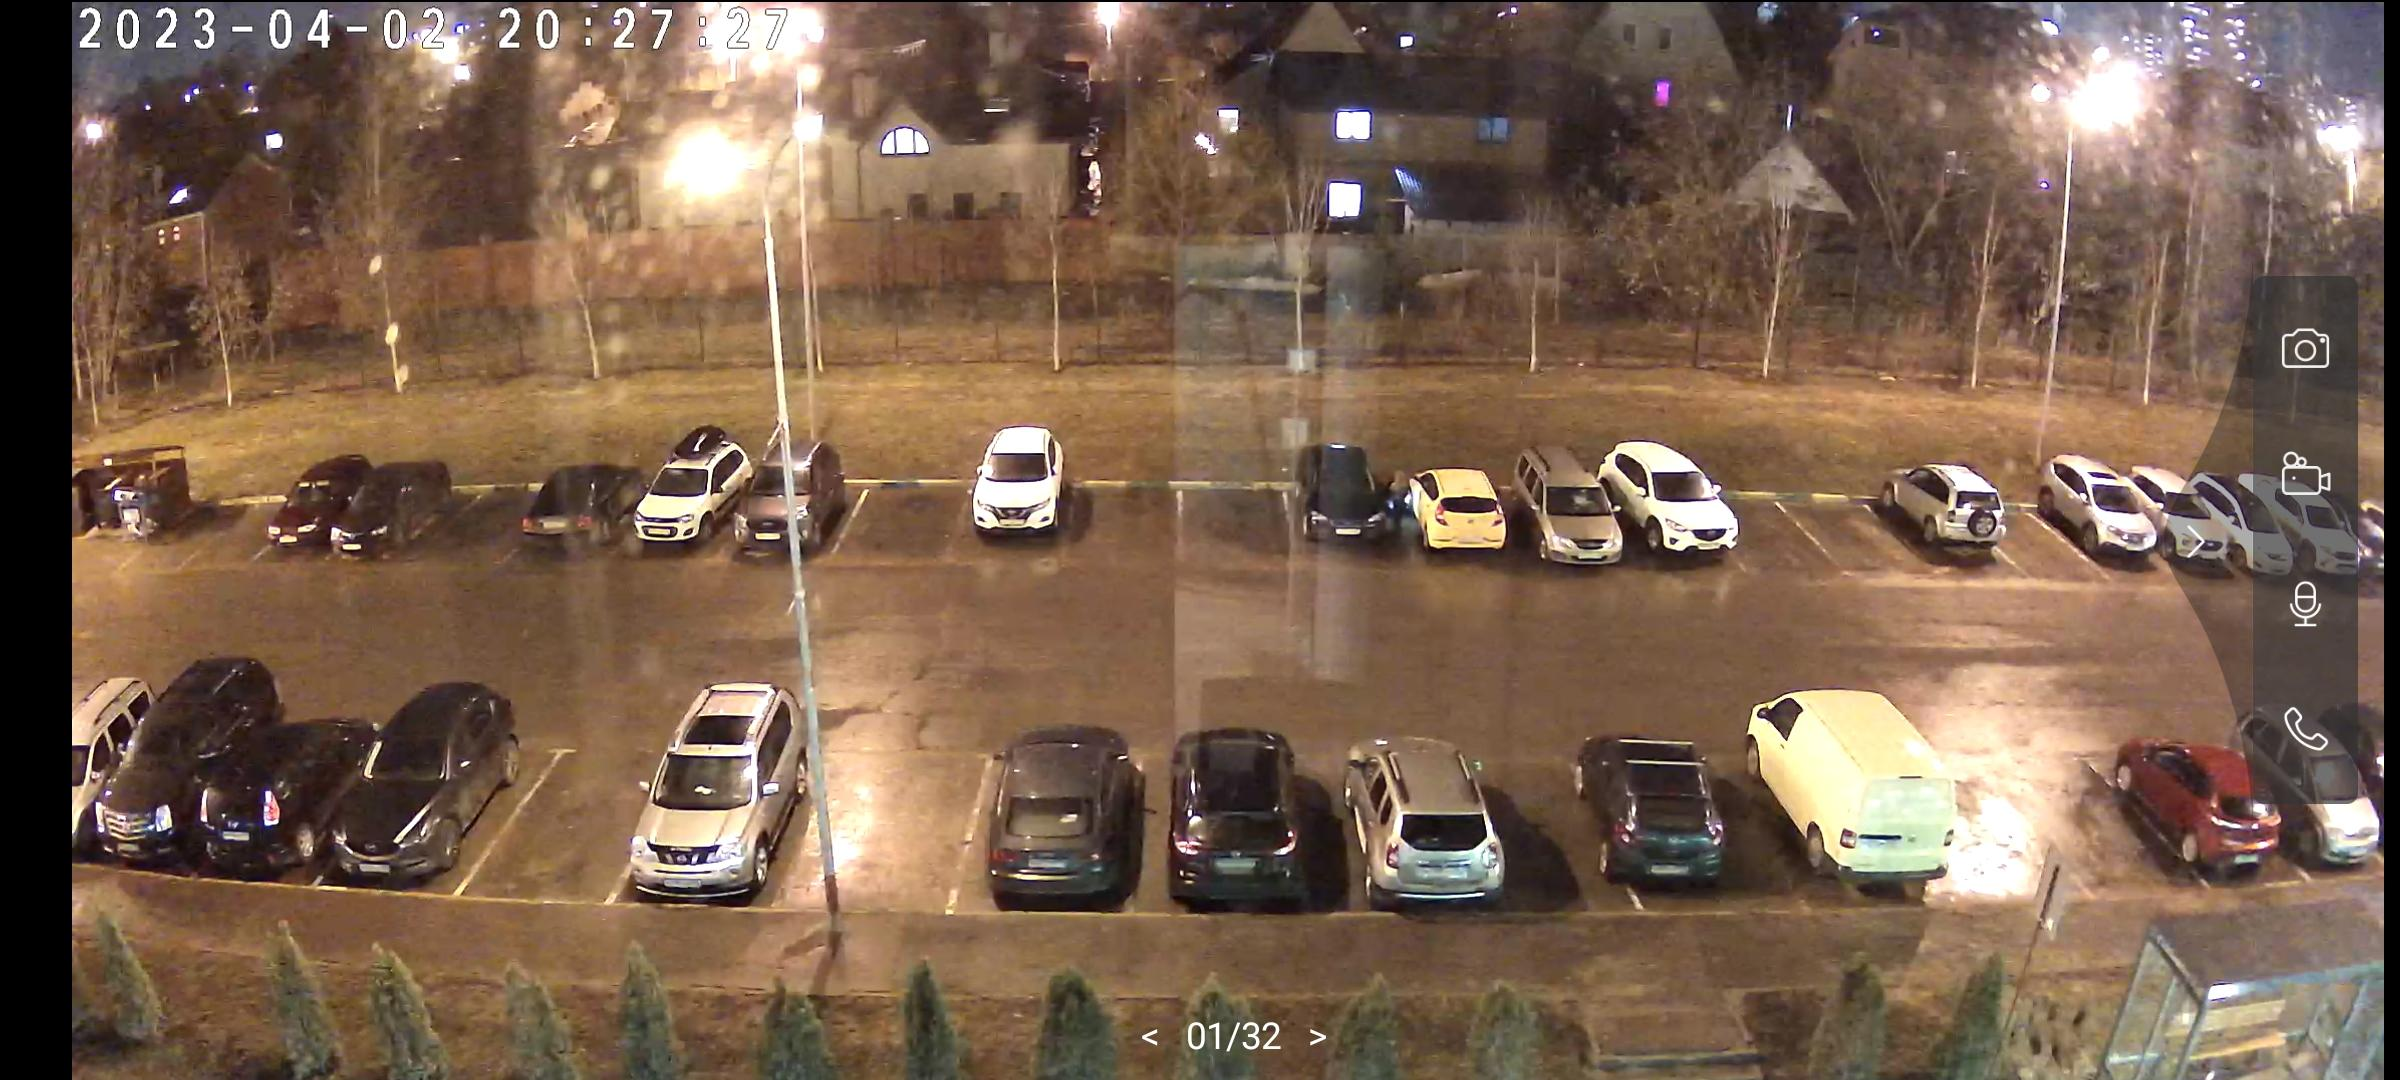empty: (81, 649, 360, 872), (1754, 691, 1985, 892), (332, 685, 546, 887), (602, 678, 790, 903), (975, 728, 1146, 919), (1148, 725, 1329, 903), (1566, 731, 1756, 895), (1355, 768, 1520, 921), (2236, 705, 2388, 870), (2132, 737, 2281, 881), (935, 413, 1094, 538), (257, 453, 445, 558), (614, 430, 776, 546), (1601, 439, 1753, 557), (2028, 460, 2175, 569), (1881, 464, 2030, 554), (1396, 468, 1528, 558), (2152, 480, 2276, 569), (1290, 453, 1401, 548), (1531, 462, 1630, 560), (755, 453, 848, 554), (522, 457, 628, 542)
occupied: (796, 750, 966, 912), (505, 765, 635, 890), (2040, 771, 2160, 890), (1048, 462, 1179, 571), (1927, 763, 2037, 886), (1182, 465, 1289, 566), (438, 483, 539, 572), (839, 491, 951, 560), (1982, 490, 2074, 572), (1818, 491, 1890, 574), (1739, 503, 1834, 564), (162, 499, 217, 564), (223, 497, 277, 557)
